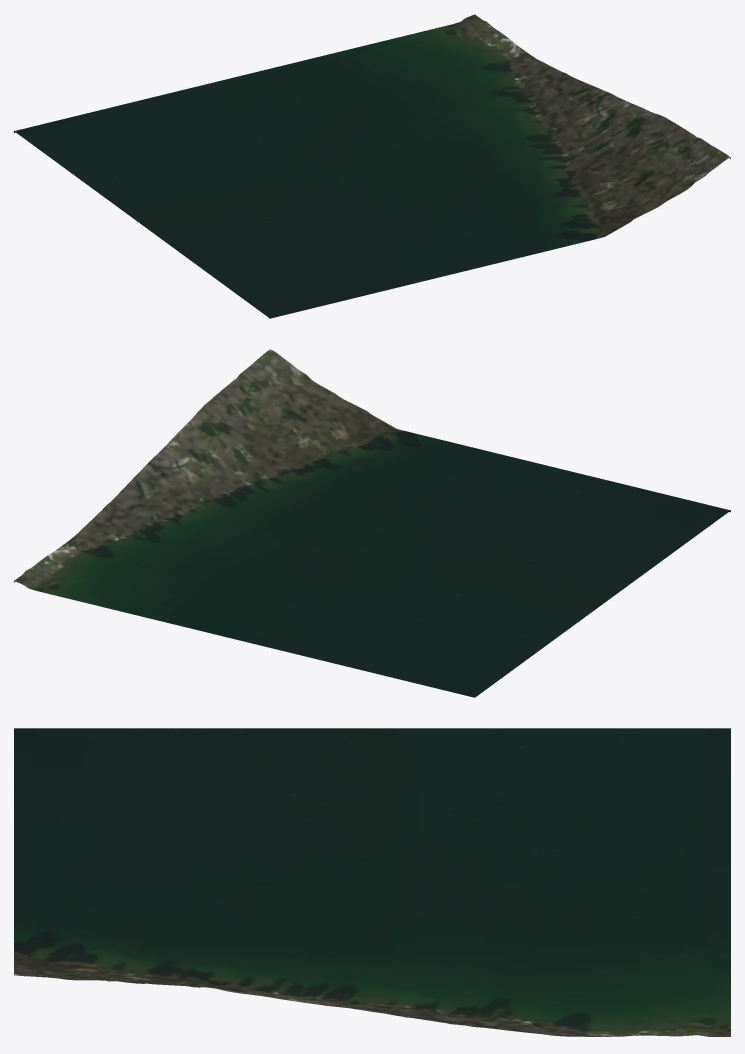
3 renders of one model, top to bottom at view 1: azimuth 30°, elevation 25°; view 2: azimuth 150°, elevation 25°; view 3: azimuth 270°, elevation 25°, orthographic. The views are drawn at different scales.
Size of the model in its own units: 250 by 26.35 by 241.
Materials: 1 (1 with a texture image).
